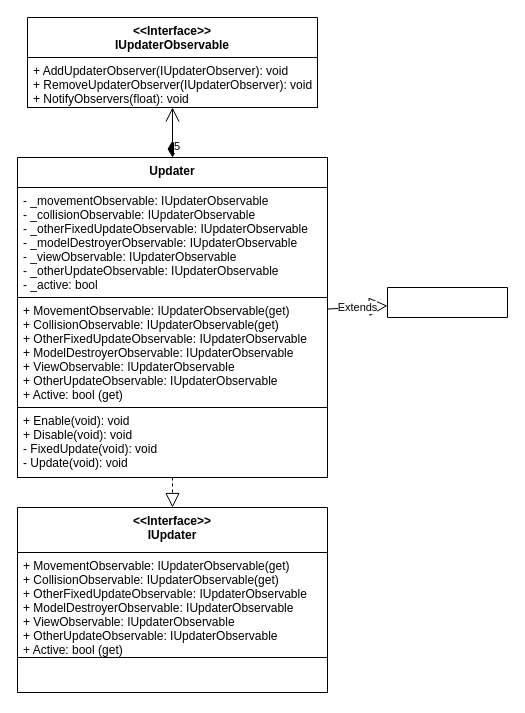
The diagram is 525 pixels wide and 713 high, and some of its shapes have lost their labels. The centre of each missing label's shape, as x and y in pixels:
+ Enable(void): void + Disable(void): void: [172,674]
MonoBehaviour: [447,302]
